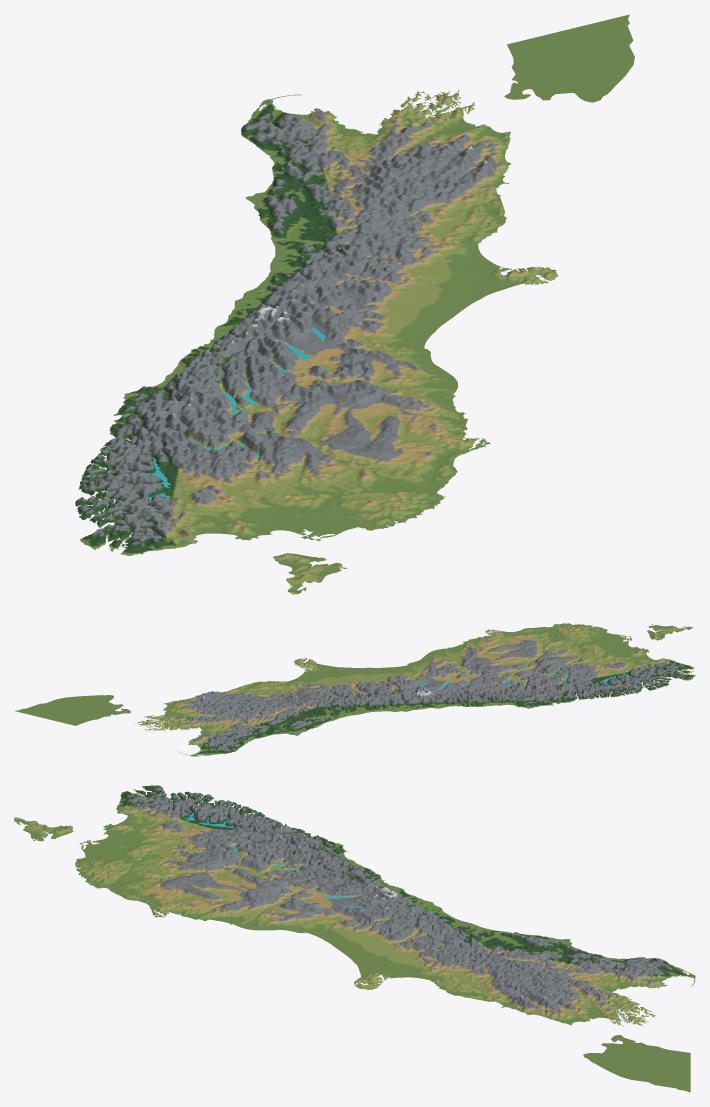
The model's file is terrain.glb.
The picture shows the model from 3 angles, top to bottom: view 1: azimuth 30°, elevation 25°; view 2: azimuth 150°, elevation 25°; view 3: azimuth 270°, elevation 25°; orthographic projection. The views are drawn at different scales.
Visible parts, largest first — view 1: Terrain.001, NorthIslandHint.001, StewartIsland.001; view 2: Terrain.001, NorthIslandHint.001, StewartIsland.001; view 3: Terrain.001, NorthIslandHint.001, StewartIsland.001.
Part boxes in pixels (left/top/right/bottom): Terrain.001: left=75, top=90, right=558, bottom=555; NorthIslandHint.001: left=504, top=14, right=634, bottom=102; StewartIsland.001: left=273, top=553, right=347, bottom=594; Terrain.001: left=134, top=623, right=695, bottom=756; NorthIslandHint.001: left=15, top=695, right=130, bottom=725; StewartIsland.001: left=647, top=624, right=693, bottom=640; Terrain.001: left=75, top=785, right=695, bottom=1026; NorthIslandHint.001: left=583, top=1035, right=690, bottom=1092; StewartIsland.001: left=14, top=817, right=73, bottom=841.
Size of the model in its own units: 80.59 by 1.43 by 75.47.
